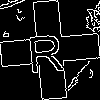R: (25, 25, 65, 74)
